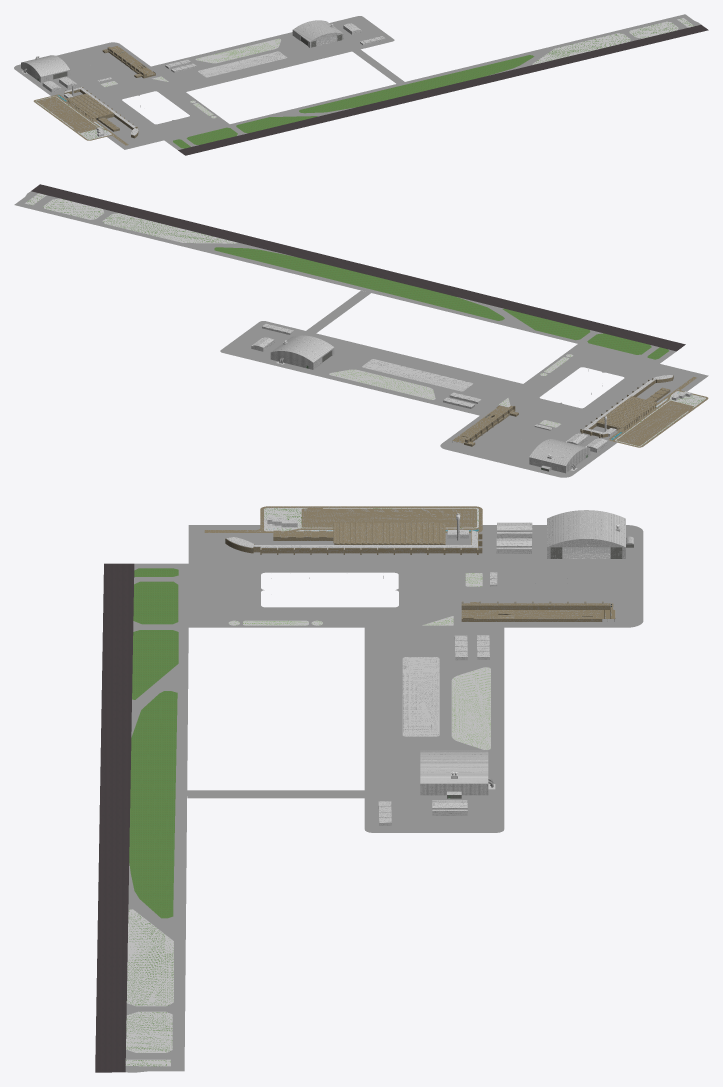
Rendered from TAKTAKTAKTAK.glb.
The picture shows the model from 3 angles, top to bottom: view 1: azimuth 30°, elevation 25°; view 2: azimuth 150°, elevation 25°; view 3: azimuth 270°, elevation 25°; orthographic projection. The views are drawn at different scales.
Visible parts, largest first — view 1: ID2066-7, ID219-26, ID219-14, ID325-3, ID219-1, ID219-1.001, ID219-16, ID2066-36, ID2066-12, ID219-11, ID1598-12, ID325-4 (+8 smaller); view 2: ID2066-7, ID219-26, ID219-14, ID325-3, ID219-1.001, ID219-1, ID219-16, ID2066-36, ID2066-12, ID1598-12.001, ID325-4, ID1598-12 (+5 smaller); view 3: ID2066-7, ID219-26, ID219-14, ID325-3, ID219-1, ID219-1.001, ID219-16, ID2066-36, ID2066-12, ID219-11, ID879-0, ID1598-12.001 (+8 smaller).
Part boxes in pixels (x1,y1,x2,y2): ID2066-7: [14, 16, 404, 149]; ID219-26: [164, 14, 700, 149]; ID219-14: [299, 55, 534, 113]; ID325-3: [33, 87, 138, 145]; ID219-1: [178, 24, 704, 152]; ID219-1.001: [182, 27, 708, 155]; ID219-16: [532, 33, 630, 64]; ID2066-36: [198, 51, 287, 77]; ID2066-12: [195, 38, 280, 63]; ID219-11: [236, 116, 317, 133]; ID1598-12: [21, 55, 69, 76]; ID325-4: [34, 87, 137, 145]; ID2066-7: [220, 290, 708, 477]; ID219-26: [14, 191, 676, 363]; ID219-14: [214, 247, 504, 320]; ID325-3: [580, 375, 708, 447]; ID219-1.001: [35, 184, 685, 347]; ID219-1: [31, 188, 681, 351]; ID219-16: [102, 213, 237, 243]; ID2066-36: [362, 359, 472, 391]; ID2066-12: [329, 369, 435, 399]; ID1598-12.001: [271, 335, 333, 362]; ID325-4: [580, 377, 706, 447]; ID1598-12: [529, 439, 589, 465]; ID2066-7: [187, 525, 643, 832]; ID219-26: [125, 563, 188, 1072]; ID219-14: [129, 691, 177, 918]; ID325-3: [204, 506, 482, 554]; ID219-1: [111, 563, 134, 1072]; ID219-1.001: [95, 563, 117, 1072]; ID219-16: [126, 909, 173, 1006]; ID2066-36: [402, 657, 439, 736]; ID2066-12: [451, 667, 490, 749]; ID219-11: [132, 630, 178, 699]; ID879-0: [461, 601, 613, 621]; ID1598-12.001: [420, 750, 488, 783].
Size of the model in its own units: 2385 by 51.82 by 1004.
Materials: 45 (23 with a texture image).
